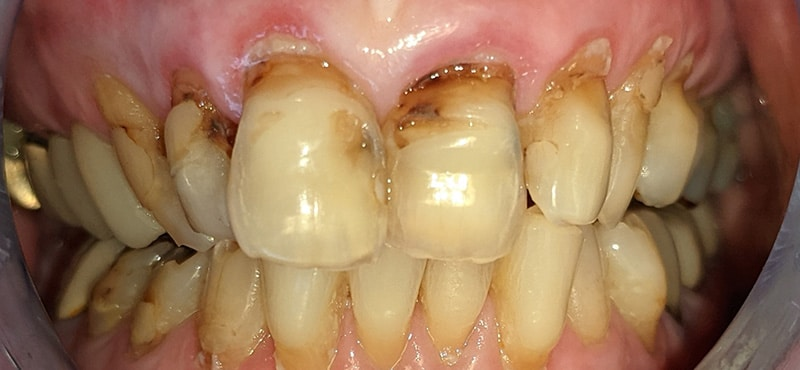LL1BC_healthy: (607, 214, 666, 341)
LL1M_healthy: (674, 215, 709, 285)
LL2BC_healthy: (659, 222, 684, 309)
LL2M_healthy: (699, 202, 734, 263)
LLCI_healthy: (421, 262, 494, 353)
LLC_healthy: (576, 230, 612, 346)
LLLI_healthy: (506, 224, 572, 365)
LR1BC_sdecay: (153, 246, 202, 341)
LR1M_mdecay: (55, 241, 105, 313)
LR2BC_sdecay: (103, 251, 149, 327)
LRCI_healthy: (352, 261, 418, 361)
LRC_mdecay: (203, 244, 263, 366)
LRLI_mdecay: (258, 259, 347, 370)
UL2BC_mdecay: (698, 112, 744, 197)
ULCI_mdecay: (396, 61, 527, 260)
ULC_healthy: (657, 67, 695, 210)
ULC_mdecay: (610, 53, 656, 223)
ULLI_mdecay: (529, 41, 612, 228)
UR1BC_healthy: (75, 131, 154, 251)
URCI_mdecay: (235, 59, 390, 263)
URC_mdecay: (110, 111, 208, 258)
URLI_sdecay: (168, 90, 238, 253)
